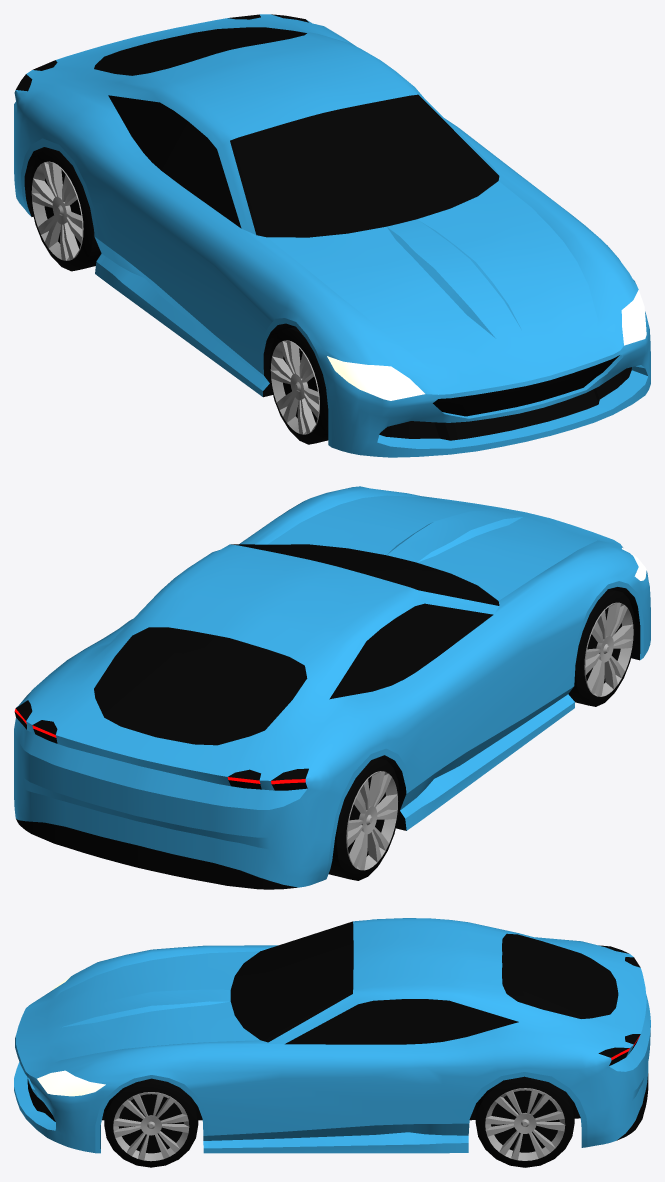
File: carro.glb
3 views of the same model, one above another, from view 1: azimuth 30°, elevation 25°; view 2: azimuth 150°, elevation 25°; view 3: azimuth 270°, elevation 25° (orthographic). The views are drawn at different scales.
Size of the model in its own units: 2.07 by 1.26 by 4.59.
